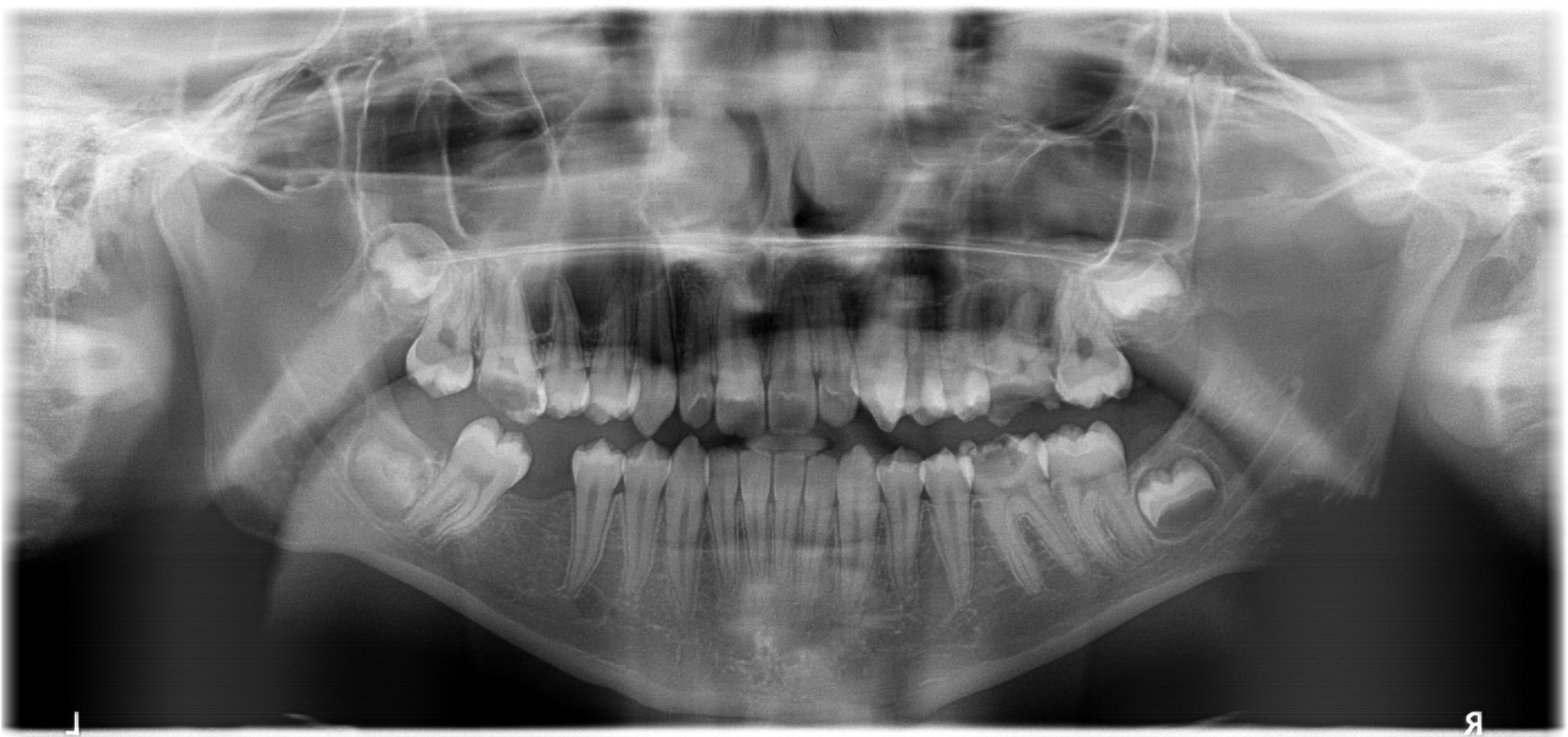Premolars: (478, 210, 1431, 670), (622, 230, 1568, 682), (531, 218, 1568, 517), (599, 154, 1568, 399), (271, 191, 801, 481), (203, 213, 556, 645), (214, 108, 589, 345)
